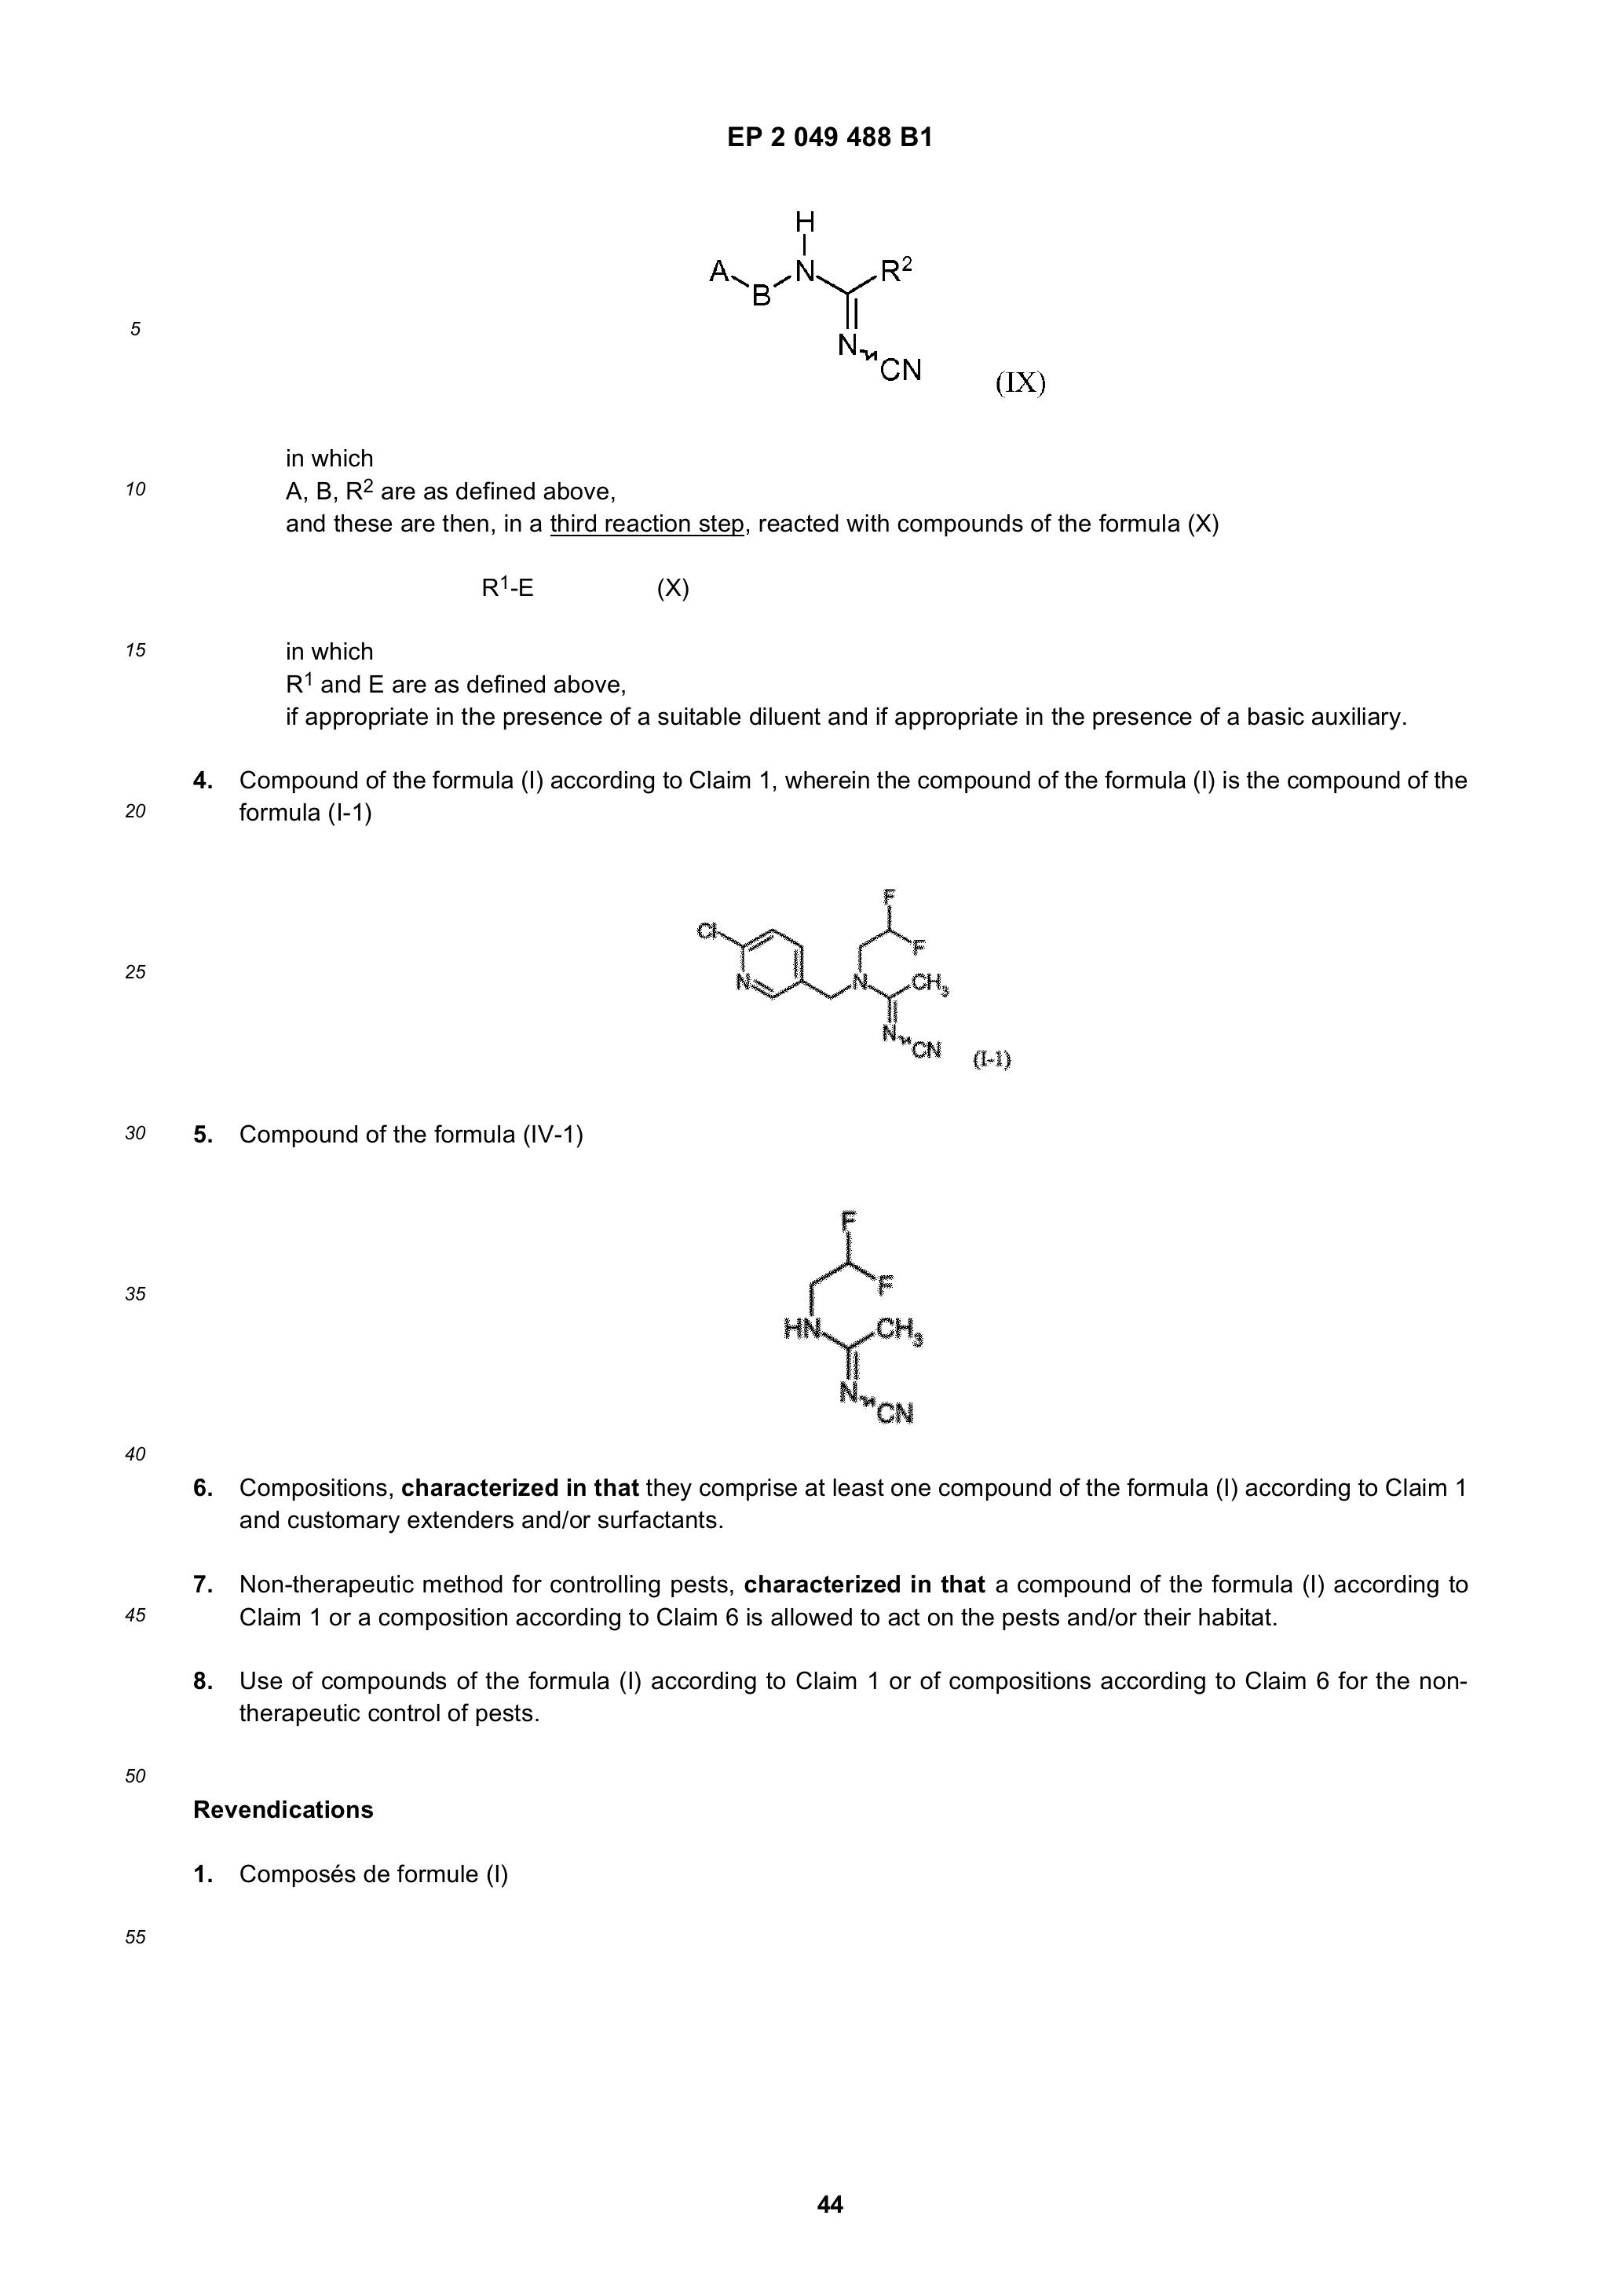markush-structures: (697, 193, 934, 408)
relevant-structures: (650, 848, 1059, 1080), (736, 1161, 966, 1460)
